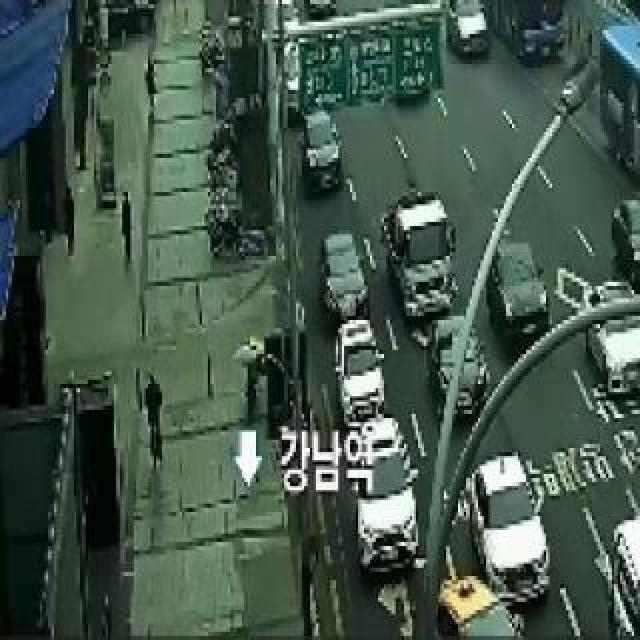truck: (371, 184, 459, 314), (610, 0, 640, 28)
